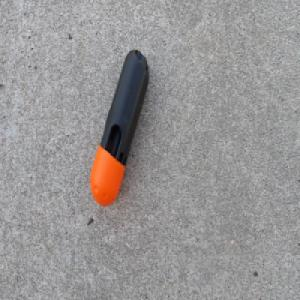PlasticPart: (89, 48, 150, 207)
